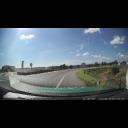speed_limit_40: (81, 63, 86, 68), (29, 63, 33, 66)
